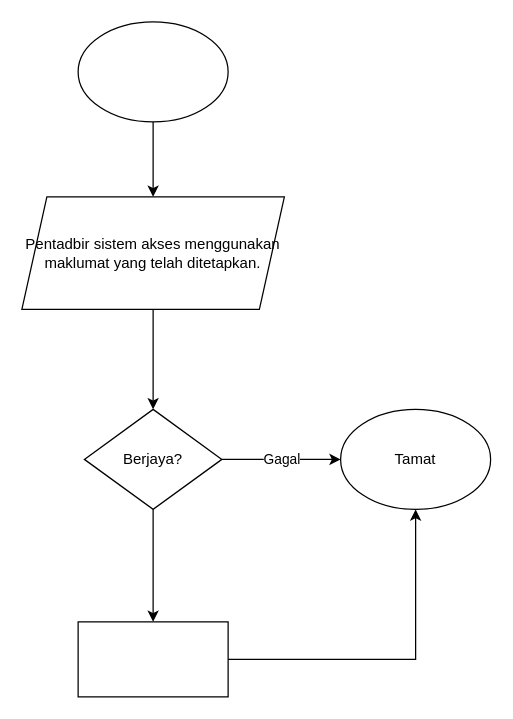
Some shapes in this 513 by 719 pixel diagram are drawn without their labels. Here are the shapes that lost their labels. From the top down, the centre of each, then its label:
the point at 152,71: Mula
the point at 152,659: Menggunakan fungsi
